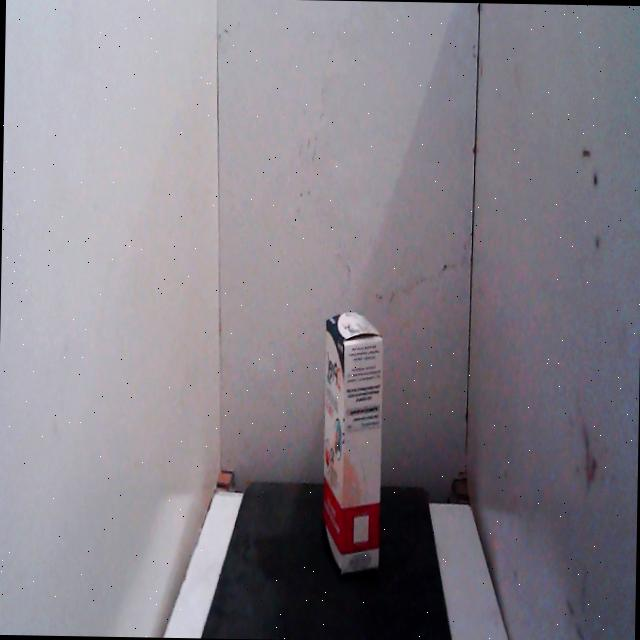papel: (316, 280, 391, 590)
